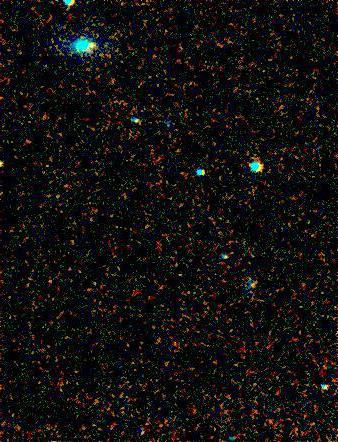star: (75, 32, 105, 62)
